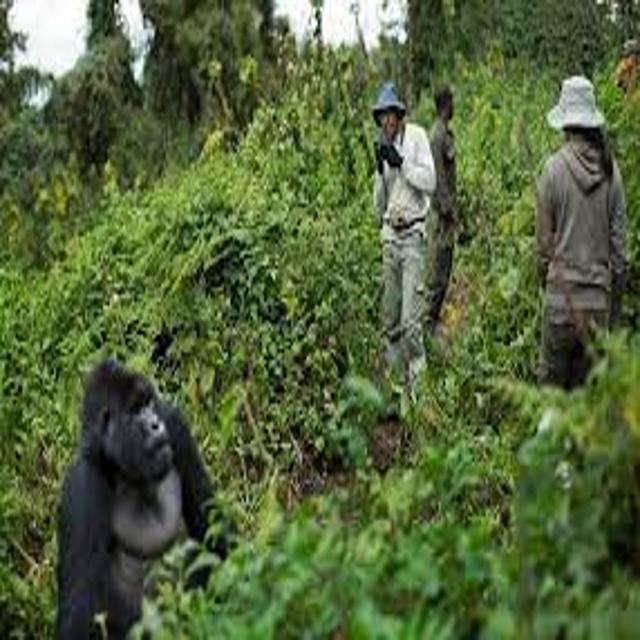poacher: (501, 53, 640, 428), (335, 65, 474, 408), (383, 58, 498, 384)
